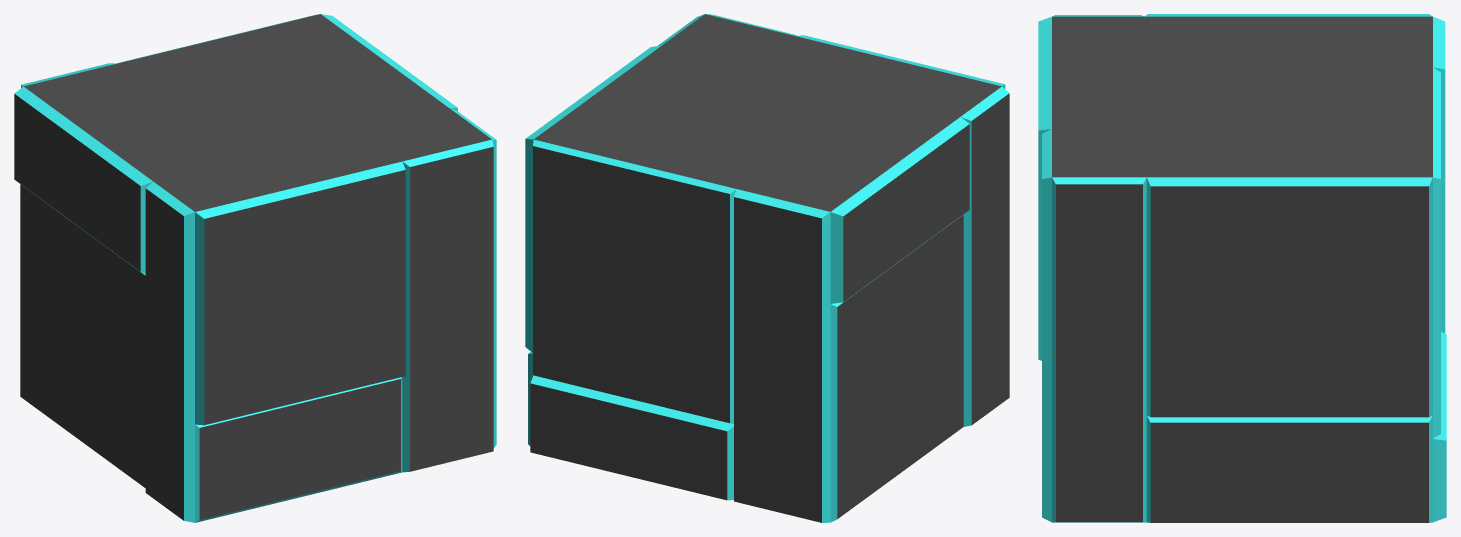
The model's file is HJD_SFB_Platform_05.fbx.
3 views of the same model, side by side, from view 1: azimuth 30°, elevation 25°; view 2: azimuth 150°, elevation 25°; view 3: azimuth 270°, elevation 25° (orthographic). The views are drawn at different scales.
Visible parts, largest first — view 1: HJD_SFB_Asset; view 2: HJD_SFB_Asset; view 3: HJD_SFB_Asset.
Boxes of the visible parts, x1,y1,x2,y2 form: HJD_SFB_Asset: [14, 14, 496, 522]; HJD_SFB_Asset: [525, 14, 1009, 522]; HJD_SFB_Asset: [1038, 14, 1446, 522].
Bounding box in the file's own units: 107 × 100 × 107.
